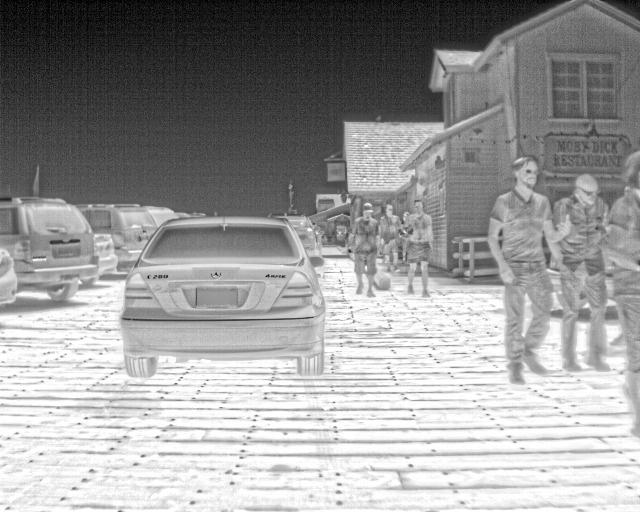bicycle: (114, 211, 328, 374), (0, 195, 97, 304), (73, 205, 162, 274), (286, 220, 323, 262), (1, 244, 19, 309), (91, 232, 115, 272), (140, 204, 177, 226)
empty: (485, 154, 564, 387), (553, 173, 616, 368), (604, 149, 639, 436), (402, 197, 433, 297), (347, 203, 381, 289), (381, 202, 403, 273)
